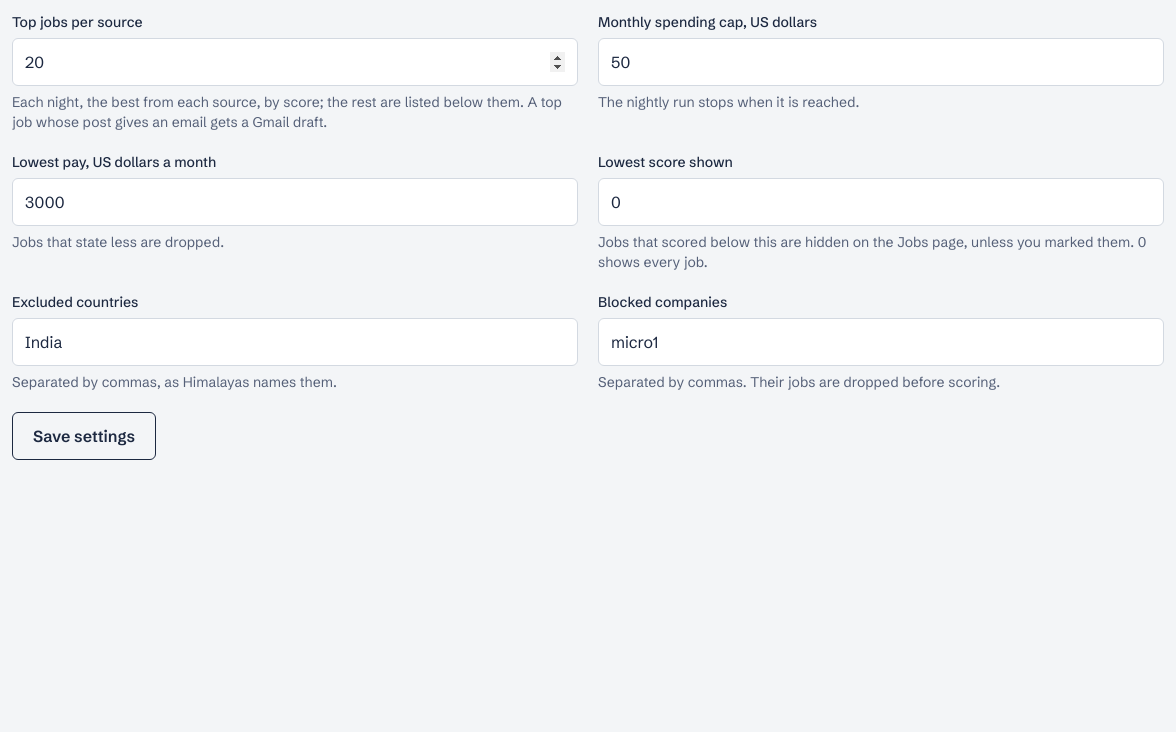
Test: shows why settings were refused
Click the button "Save settings": [84, 436] box [12,412,156,460]
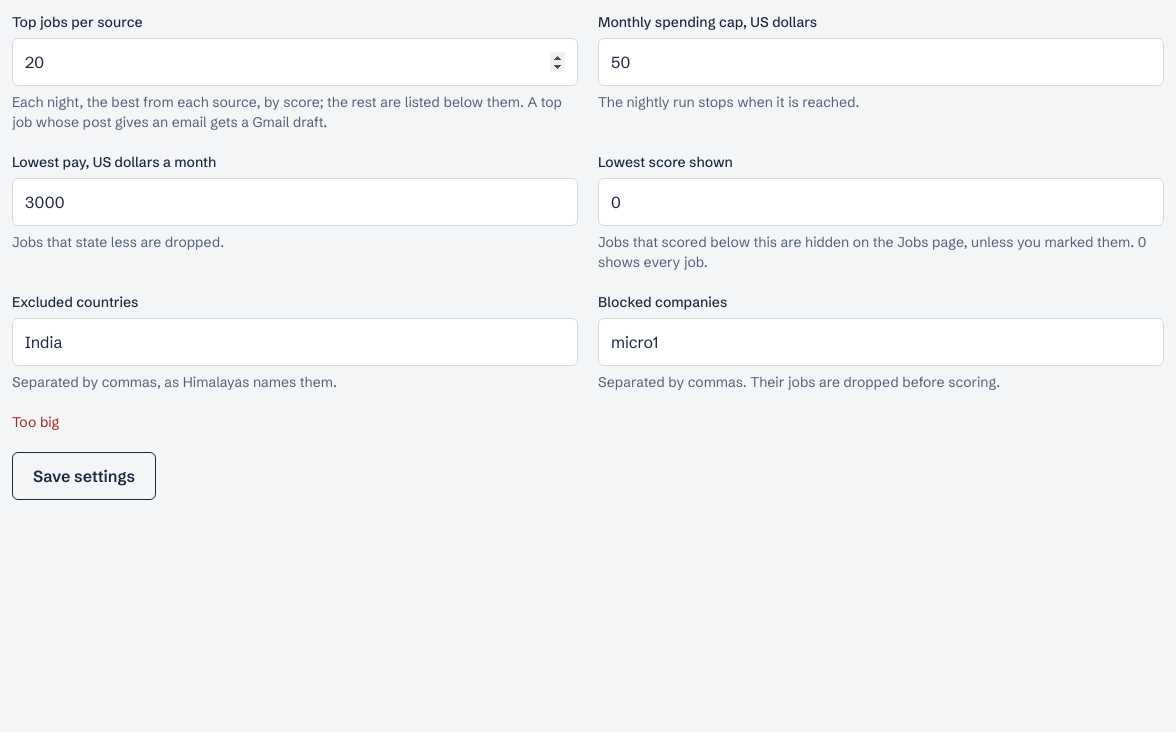
Expected: the message reads "Too big", [12,413,59,431]
